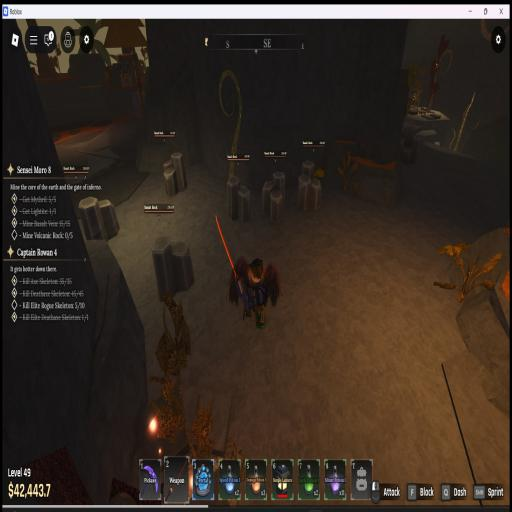player: (229, 257, 281, 329)
rock: (152, 235, 194, 295), (79, 197, 119, 240), (297, 161, 321, 211), (262, 172, 285, 222), (163, 153, 187, 196), (227, 177, 249, 222), (400, 126, 421, 163)
